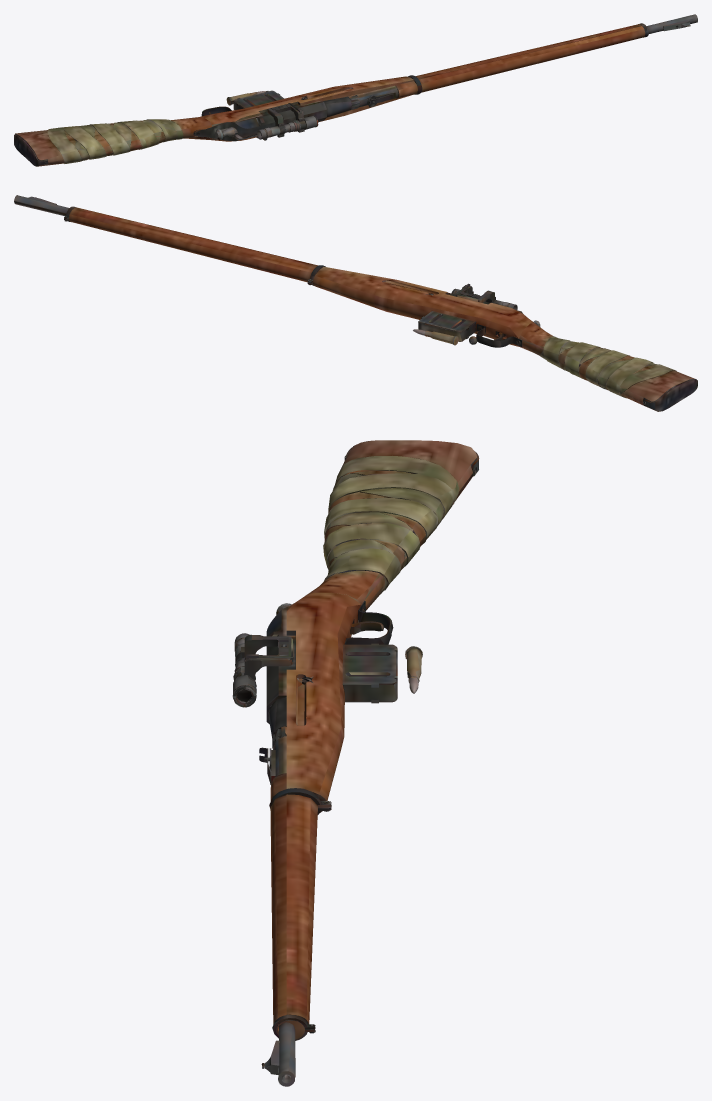
The model's file is earth_rifle.glb.
3 views of the same model, one above another, from view 1: azimuth 30°, elevation 25°; view 2: azimuth 150°, elevation 25°; view 3: azimuth 270°, elevation 25° (orthographic). The views are drawn at different scales.
Parts seen in each view (by area): view 1: earth_rifle; view 2: earth_rifle; view 3: earth_rifle.
Boxes of the visible parts, <box> form: earth_rifle: <box>14,14,697,166</box>; earth_rifle: <box>14,195,697,411</box>; earth_rifle: <box>232,440,479,1086</box>.
Size of the model in its own units: 1.06 by 0.0573 by 0.1763.
1 material, 1 textured.
